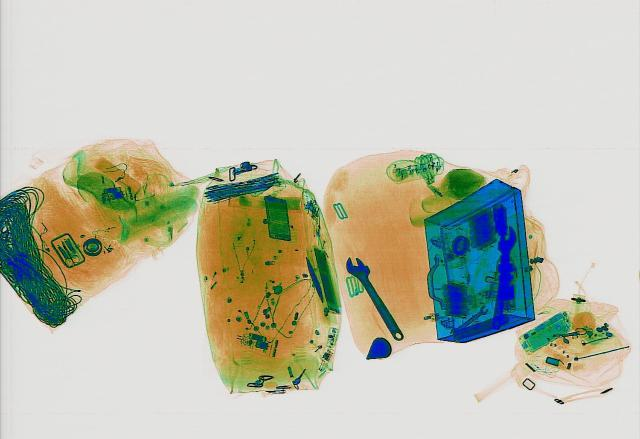Wrench: (338, 253, 410, 341)
